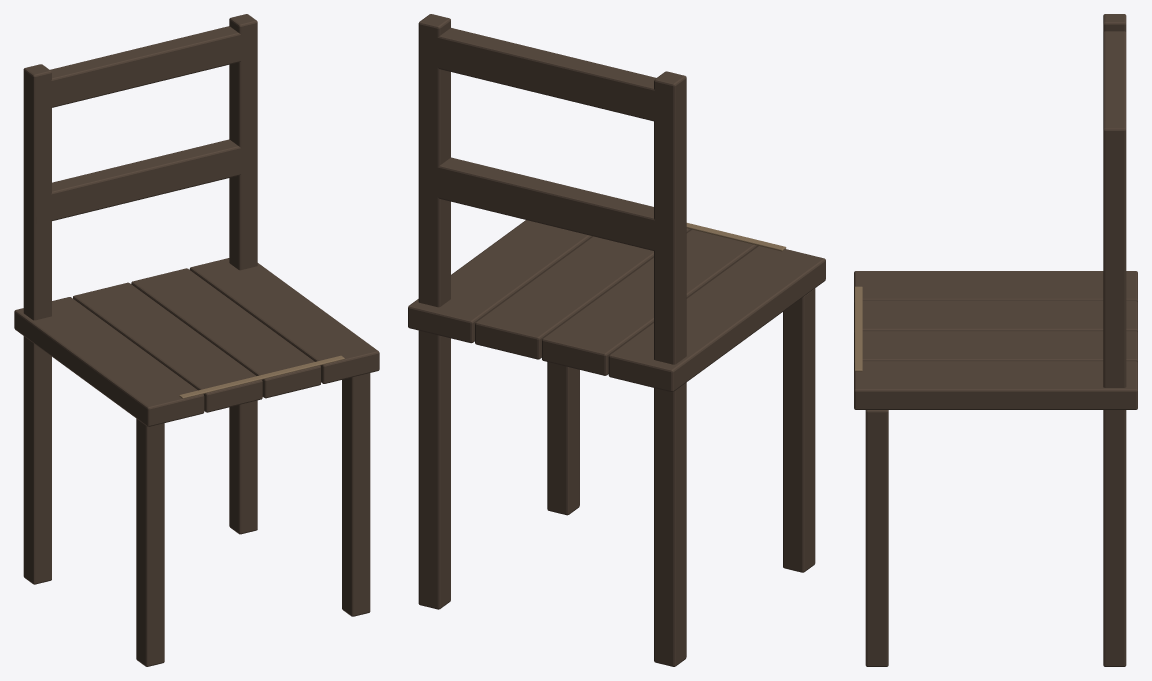
Rendered from chair_lod0.glb.
3 views of the same model, side by side, from view 1: azimuth 30°, elevation 25°; view 2: azimuth 150°, elevation 25°; view 3: azimuth 270°, elevation 25° (orthographic). The views are drawn at different scales.
Parts seen in each view (by area): view 1: chairSeat, chairSeatWear; view 2: chairSeat, chairSeatWear; view 3: chairSeat, chairSeatWear.
Boxes of the visible parts, x1,y1,x2,y2 form: chairSeat: [14, 14, 379, 666]; chairSeatWear: [179, 355, 344, 398]; chairSeat: [408, 14, 825, 666]; chairSeatWear: [686, 223, 786, 251]; chairSeat: [854, 14, 1137, 666]; chairSeatWear: [854, 286, 862, 371].
Size of the model in its own units: 0.429 by 0.9 by 0.43.
